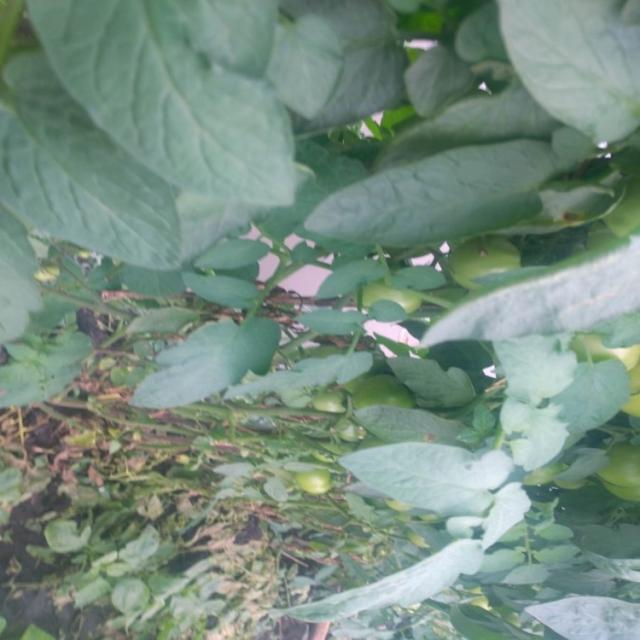tomato: (447, 232, 529, 294), (354, 272, 434, 322), (348, 367, 415, 420), (605, 437, 640, 508), (300, 459, 340, 502)
